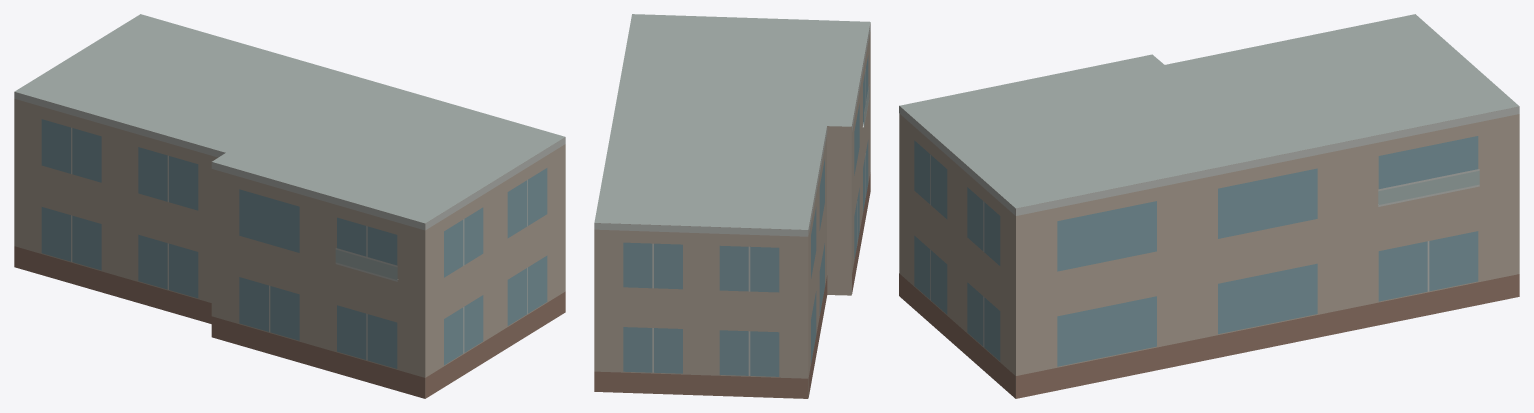
The model's file is survey-upis-32718805.glb.
3 views of the same model, side by side, from view 1: azimuth 30°, elevation 25°; view 2: azimuth 150°, elevation 25°; view 3: azimuth 270°, elevation 25° (orthographic). The views are drawn at different scales.
Visible parts, largest first — view 1: survey-upis-32718805.tmp; view 2: survey-upis-32718805.tmp; view 3: survey-upis-32718805.tmp.
Part boxes in pixels (box(x1,y1,x2,y2)): survey-upis-32718805.tmp: box(14, 14, 565, 398); survey-upis-32718805.tmp: box(594, 14, 870, 398); survey-upis-32718805.tmp: box(899, 14, 1519, 398).
Size of the model in its own units: 13.38 by 6.1 by 18.03.
